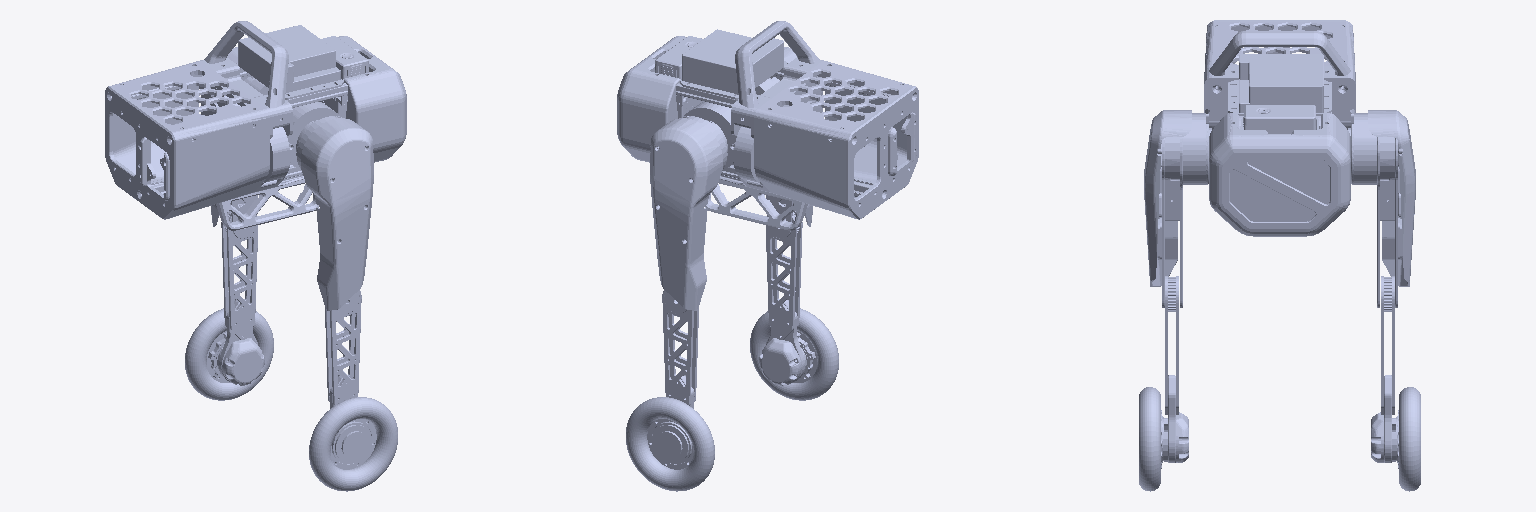
The robot description file, URDF, robot "crazydog":
<?xml version="1.0" encoding="utf-8"?>
<!-- This URDF was automatically created by SolidWorks to URDF Exporter! Originally created by [author] ([email redacted]) 
     Commit Version: 1.6.0-4-g7f85cfe  Build Version: 1.6.7995.38578
     For more information, please see http://wiki.ros.org/sw_urdf_exporter -->
<robot
  name="crazydog">
  <link name="dummy_link"/>  
  <joint name="dummy_joint" type="floating">
    <parent link="dummy_link"/>
    <child link="base_link"/>
    <origin xyz="0 0 0" rpy="0 0 0"/>
  </joint>
  <link
    name="base_link">
    <inertial>
      <origin
        xyz="-0.06214 -0.00054 0.06779"
        rpy="0 0 0" />
      <mass
        value="2.214" />
      <inertia
        ixx="0.02069164485"
        ixy="0.00023474428"
        ixz="-0.00785270783"
        iyy="0.04356034977"
        iyz="-0.00005561398"
        izz="0.03457865399" />
    </inertial>
    <visual>
      <origin
        xyz="0 0 0"
        rpy="0 0 0" />
      <geometry>
        <mesh
          filename="package://crazydog/meshes/base_link.STL" />
      </geometry>
      <material
        name="">
        <color
          rgba="0.792156862745098 0.819607843137255 0.933333333333333 1" />
      </material>
    </visual>
    <collision>
      <origin
        xyz="0 0 0"
        rpy="0 0 0" />
      <geometry>
        <mesh
          filename="package://crazydog/meshes/base_link.STL" />
      </geometry>
    </collision>
  </link>
  <link
    name="orin_Link">
      <inertial>
        <origin
          xyz="-0.01930 0.05663 0.02065"
          rpy="0 0 0" />
        <mass
          value="0.300" />
        <inertia
          ixx="0.00144869941"
          ixy="-0.00031634298"
          ixz="-0.00012276365"
          iyy="0.00055394520"
          iyz="0.00035951431"
          izz="0.00165301683" />
      </inertial>
    <visual>
      <origin
        xyz="0 0 0"
        rpy="0 0 0" />
      <geometry>
        <mesh
          filename="package://crazydog/meshes/orin_Link.STL" />
      </geometry>
      <material
        name="">
        <color
          rgba="0.792156862745098 0.819607843137255 0.933333333333333 1" />
      </material>
    </visual>
    <collision>
      <origin
        xyz="0 0 0"
        rpy="0 0 0" />
      <geometry>
        <mesh
          filename="package://crazydog/meshes/orin_Link.STL" />
      </geometry>
    </collision>
  </link>
  <joint
    name="orin"
    type="fixed">
    <origin
      xyz="0.017899999999997 -0.0521499999999896 0.138300000000021"
      rpy="0 0 0" />
    <parent
      link="base_link" />
    <child
      link="orin_Link" />
    <axis
      xyz="0 0 1" />
  </joint>
  <link
    name="bat_Link">
    <inertial>
      <origin
        xyz="0.02067 -0.06839 0.06374"
        rpy="0 0 0" />
      <mass
        value="0.672" />
      <inertia
        ixx="0.00711125557"
        ixy="-0.00095114141"
        ixz="0.00088927121"
        iyy="0.00396581723"
        iyz="-0.00296428728"
        izz="0.00393199356" />
    </inertial>
    <visual>
      <origin
        xyz="0 0 0"
        rpy="0 0 0" />
      <geometry>
        <mesh
          filename="package://crazydog/meshes/bat_Link.STL" />
      </geometry>
      <material
        name="">
        <color
          rgba="0.792156862745098 0.819607843137255 0.933333333333333 1" />
      </material>
    </visual>
    <collision>
      <origin
        xyz="0 0 0"
        rpy="0 0 0" />
      <geometry>
        <mesh
          filename="package://crazydog/meshes/bat_Link.STL" />
      </geometry>
    </collision>
  </link>
  <joint
    name="bat"
    type="fixed">
    <origin
      xyz="0.058950000003876 0.0727389463301006 0.0227476714243632"
      rpy="0 0 0" />
    <parent
      link="base_link" />
    <child
      link="bat_Link" />
    <axis
      xyz="0 0 1" />
  </joint>
  <link
    name="r_Link">
    <inertial>
      <origin
        xyz="-0.02157 -0.01000 0.00000"
        rpy="0 0 0" />
      <mass
        value="0.536" />
      <inertia
        ixx="0.00060793670"
        ixy="0.00011558529"
        ixz="0.00000883"
        iyy="0.00058746412"
        iyz="-0.00000494"
        izz="0.00063100958" />
    </inertial>
    <visual>
      <origin
        xyz="0 0 0"
        rpy="0 0 0" />
      <geometry>
        <mesh
          filename="package://crazydog/meshes/r_Link.STL" />
      </geometry>
      <material
        name="">
        <color
          rgba="0.792156862745098 0.819607843137255 0.933333333333333 1" />
      </material>
    </visual>
    <collision>
      <origin
        xyz="0 0 0"
        rpy="0 0 0" />
      <geometry>
        <mesh
          filename="package://crazydog/meshes/r_Link.STL" />
      </geometry>
    </collision>
  </link>
  <joint
    name="R_hip_fix"
    type="fixed">
    <origin
      xyz="-0.0518500000000023 -0.0449999999990881 0.0646505434665986"
      rpy="0 0 0" />
    <parent
      link="base_link" />
    <child
      link="r_Link" />
    <axis
      xyz="1 0 0" />
  </joint>
  <link
    name="rr_Link">
    <inertial>
      <origin
        xyz="0.05066 -0.00900 0.00000"
        rpy="0 0 0" />
      <mass
        value="0.573" />
      <inertia
        ixx="0.00040372551"
        ixy="-0.00026582134"
        ixz="0.00004388"
        iyy="0.00210825359"
        iyz="-0.00000196"
        izz="0.00192077322" />
    </inertial>
    <visual>
      <origin
        xyz="0 0 0"
        rpy="0 0 0" />
      <geometry>
        <mesh
          filename="package://crazydog/meshes/rr_Link.STL" />
      </geometry>
      <material
        name="">
        <color
          rgba="0.792156862745098 0.819607843137255 0.933333333333333 1" />
      </material>
    </visual>
    <collision>
      <origin
        xyz="0 0 0"
        rpy="0 0 0" />
      <geometry>
        <mesh
          filename="package://crazydog/meshes/rr_Link.STL" />
      </geometry>
    </collision>
  </link>
  <joint
    name="R_base2hip"
    type="fixed">
    <origin
      xyz="0 0 0"
      rpy="0 0 0" />
    <parent
      link="r_Link" />
    <child
      link="rr_Link" />
    <axis
      xyz="1 0 0" />
  </joint>
  <link
    name="rrr_Link">
    <inertial>
      <origin
        xyz="0.00000 -0.04237 0.00000"
        rpy="0 0 0" />
      <mass
        value="0.614" />
      <inertia
        ixx="0.00153715736"
        ixy="0.00001279"
        ixz="-0.00520284"
        iyy="0.00066390170"
        iyz="0.00003363"
        izz="0.00155997855" />
    </inertial>
    <visual>
      <origin
        xyz="0 0 0"
        rpy="0 0 0" />
      <geometry>
        <mesh
          filename="package://crazydog/meshes/rrr_Link.STL" />
      </geometry>
      <material
        name="">
        <color
          rgba="0.792156862745098 0.819607843137255 0.933333333333333 1" />
      </material>
    </visual>
    <collision>
      <origin
        xyz="0 0 0"
        rpy="0 0 0" />
      <geometry>
        <mesh
          filename="package://crazydog/meshes/rrr_Link.STL" />
      </geometry>
    </collision>
  </link>
  <joint
    name="R_hip2thigh"
    type="revolute">
    <origin
      xyz="0.0532500000000038 -0.0234965472817495 0"
      rpy="0 0 0" />
    <parent
      link="rr_Link" />
    <child
      link="rrr_Link" />
    <axis
      xyz="0 0.999999999994352 0" />
    <limit
      lower="0.0"
      upper="1.57"
      effort="23.7"
      velocity="30.0" />
  </joint>
  <link
    name="ru_Link">
    <inertial>
      <origin
        xyz="-0.00522 -0.04538 -0.06493"
        rpy="0 0 0" />
      <mass
        value="0.509" />
      <inertia
        ixx="0.00610249132"
        ixy="0.00012368056"
        ixz="0.00017397906"
        iyy="0.00522184002"
        iyz="0.00157883075"
        izz="0.00148210677" />
    </inertial>
    <visual>
      <origin
        xyz="0 0 0"
        rpy="0 0 0" />
      <geometry>
        <mesh
          filename="package://crazydog/meshes/ru_Link.STL" />
      </geometry>
      <material
        name="">
        <color
          rgba="0.792156862745098 0.819607843137255 0.933333333333333 1" />
      </material>
    </visual>
    <collision>
      <origin
        xyz="0 0 0"
        rpy="0 0 0" />
      <geometry>
        <mesh
          filename="package://crazydog/meshes/ru_Link.STL" />
      </geometry>
    </collision>
  </link>
  <joint
    name="R_thigh_fix"
    type="fixed">
    <origin
      xyz="0 -0.0399999999997176 0"
      rpy="0 0 0" />
    <parent
      link="rrr_Link" />
    <child
      link="ru_Link" />
    <axis
      xyz="0 0.999999999994352 0" />
  </joint>
  <link
    name="rd_Link">
    <inertial>
      <origin
        xyz="-0.00002 -0.03974 -0.15275"
        rpy="0 0 0" />
      <mass
        value="0.555" />
      <inertia
        ixx="0.01764701135"
        ixy="0.00045536"
        ixz="0.00024260"
        iyy="0.01681223570"
        iyz="0.00360095700"
        izz="0.00110212502" />
    </inertial>
    <visual>
      <origin
        xyz="0 0 0"
        rpy="0 0 0" />
      <geometry>
        <mesh
          filename="package://crazydog/meshes/rd_Link.STL" />
      </geometry>
      <material
        name="">
        <color
          rgba="0.792156862745098 0.819607843137255 0.933333333333333 1" />
      </material>
    </visual>
    <collision>
      <origin
        xyz="0 0 0"
        rpy="0 0 0" />
      <geometry>
        <mesh
          filename="package://crazydog/meshes/rd_Link.STL" />
      </geometry>
    </collision>
  </link>
  <joint
    name="R_thigh2calf"
    type="revolute">
    <origin
      xyz="0 -0.00370423901864644 -0.214999987551507"
      rpy="0 0 0" />
    <parent
      link="ru_Link" />
    <child
      link="rd_Link" />
    <axis
      xyz="0 0.999999999994352 0" />
    <limit
      lower="-2.61"
      upper="0.0"
      effort="23.7"
      velocity="30.0" />
  </joint>
  <link
    name="rw_Link">
    <inertial>
      <origin
        xyz="0.00000 -0.02520 0.00000"
        rpy="0 0 0" />
      <mass
        value="0.0" />
      <inertia
        ixx="0.00063615797"
        ixy="0.00000000"
        ixz="-0.00000070"
        iyy="0.00088385875"
        iyz="0.00000084"
        izz="0.00063615445" />
    </inertial>
    <visual>
      <origin
        xyz="0 0 0"
        rpy="0 0 0" />
      <geometry>
        <mesh
          filename="package://crazydog/meshes/rw_Link.STL" />
      </geometry>
      <material
        name="">
        <color
          rgba="0.792156862745098 0.819607843137255 0.933333333333333 1" />
      </material>
    </visual>
    <collision>
      <origin
        xyz="0 0 0"
        rpy="0 0 0" />
      <geometry>
        <mesh
          filename="package://crazydog/meshes/rw_Link.STL" />
      </geometry>
    </collision>
  </link>
  <joint
    name="R_calf2wheel"
    type="continuous">
    <origin
      xyz="0 -0.0372314027426527 -0.214999874868891"
      rpy="0 0 0" />
    <parent
      link="rd_Link" />
    <child
      link="rw_Link" />
    <axis
      xyz="0 0.999999999994352 0" />
  </joint>
  <link
    name="l_Link">
    <inertial>
      <origin
        xyz="-0.02157 -0.01000 0.00000"
        rpy="0 0 0" />
      <mass
        value="0.536" />
      <inertia
        ixx="0.00060796606"
        ixy="0.00011561532"
        ixz="0.00000705"
        iyy="0.00058746127"
        iyz="0.00001334"
        izz="0.00063104152" />
    </inertial>
    <visual>
      <origin
        xyz="0 0 0"
        rpy="0 0 0" />
      <geometry>
        <mesh
          filename="package://crazydog/meshes/l_Link.STL" />
      </geometry>
      <material
        name="">
        <color
          rgba="0.792156862745098 0.819607843137255 0.933333333333333 1" />
      </material>
    </visual>
    <collision>
      <origin
        xyz="0 0 0"
        rpy="0 0 0" />
      <geometry>
        <mesh
          filename="package://crazydog/meshes/l_Link.STL" />
      </geometry>
    </collision>
  </link>
  <joint
    name="L_hip_fix"
    type="fixed">
    <origin
      xyz="-0.0518500000000022 0.0650000000000014 0.0646505434669769"
      rpy="0 0 0" />
    <parent
      link="base_link" />
    <child
      link="l_Link" />
    <axis
      xyz="1 0 0" />
  </joint>
  <link
    name="ll_Link">
    <inertial>
      <origin
        xyz="0.05067 -0.01100 0.00000"
        rpy="0 0 0" />
      <mass
        value="0.573" />
      <inertia
        ixx="0.00042667077"
        ixy="-0.00031479758"
        ixz="-0.00001596"
        iyy="0.00210835291"
        iyz="0.00000221"
        izz="0.00194374478" />
    </inertial>
    <visual>
      <origin
        xyz="0 0 0"
        rpy="0 0 0" />
      <geometry>
        <mesh
          filename="package://crazydog/meshes/ll_Link.STL" />
      </geometry>
      <material
        name="">
        <color
          rgba="0.792156862745098 0.819607843137255 0.933333333333333 1" />
      </material>
    </visual>
    <collision>
      <origin
        xyz="0 0 0"
        rpy="0 0 0" />
      <geometry>
        <mesh
          filename="package://crazydog/meshes/ll_Link.STL" />
      </geometry>
    </collision>
  </link>
  <joint
    name="L_base2hip"
    type="fixed">
    <origin
      xyz="0 0 0"
      rpy="0 0 0" />
    <parent
      link="l_Link" />
    <child
      link="ll_Link" />
    <axis
      xyz="1 0 0" />
  </joint>
  <link
    name="lll_Link">
    <inertial>
      <origin
        xyz="0.00000 0.04237 0.00000"
        rpy="0 0 0" />
      <mass
        value="0.614" />
      <inertia
        ixx="0.00153719555"
        ixy="-0.00000836"
        ixz="-0.000520423"
        iyy="0.00066391046"
        iyz="-0.00003396"
        izz="0.00155996700" />
    </inertial>
    <visual>
      <origin
        xyz="0 0 0"
        rpy="0 0 0" />
      <geometry>
        <mesh
          filename="package://crazydog/meshes/lll_Link.STL" />
      </geometry>
      <material
        name="">
        <color
          rgba="0.792156862745098 0.819607843137255 0.933333333333333 1" />
      </material>
    </visual>
    <collision>
      <origin
        xyz="0 0 0"
        rpy="0 0 0" />
      <geometry>
        <mesh
          filename="package://crazydog/meshes/lll_Link.STL" />
      </geometry>
    </collision>
  </link>
  <joint
    name="L_hip2thigh"
    type="revolute">
    <origin
      xyz="0.0532500000000048 0.00349654728109326 0"
      rpy="0 0 0" />
    <parent
      link="ll_Link" />
    <child
      link="lll_Link" />
    <axis
      xyz="0 1 0" />
    <limit
      lower="0.0"
      upper="1.57"
      effort="23.7"
      velocity="30.0" />
  </joint>
  <link
    name="lu_Link">
    <inertial>
      <origin
        xyz="-0.00522 0.02538 -0.06493"
        rpy="0 0 0" />
      <mass
        value="0.509" />
      <inertia
        ixx="0.00538198328"
        ixy="-0.00007050637"
        ixz="0.00017400430"
        iyy="0.00522186135"
        iyz="-0.00091779265"
        izz="0.00076175038" />
    </inertial>
    <visual>
      <origin
        xyz="0 0 0"
        rpy="0 0 0" />
      <geometry>
        <mesh
          filename="package://crazydog/meshes/lu_Link.STL" />
      </geometry>
      <material
        name="">
        <color
          rgba="0.792156862745098 0.819607843137255 0.933333333333333 1" />
      </material>
    </visual>
    <collision>
      <origin
        xyz="0 0 0"
        rpy="0 0 0" />
      <geometry>
        <mesh
          filename="package://crazydog/meshes/lu_Link.STL" />
      </geometry>
    </collision>
  </link>
  <joint
    name="L_thigh_fix"
    type="fixed">
    <origin
      xyz="0 0.06 0"
      rpy="0 0 0" />
    <parent
      link="lll_Link" />
    <child
      link="lu_Link" />
    <axis
      xyz="0 1 0" />
  </joint>
  <link
    name="ld_Link">
    <inertial>
      <origin
        xyz="-0.00002 0.01974 -0.15275"
        rpy="0 0 0" />
      <mass
        value="0.555" />
      <inertia
        ixx="0.01698659436"
        ixy="-0.00016940"
        ixz="0.00011999"
        iyy="0.01681207565"
        iyz="-0.00190536647"
        izz="0.00044182490" />
    </inertial>
    <visual>
      <origin
        xyz="0 0 0"
        rpy="0 0 0" />
      <geometry>
        <mesh
          filename="package://crazydog/meshes/ld_Link.STL" />
      </geometry>
      <material
        name="">
        <color
          rgba="0.792156862745098 0.819607843137255 0.933333333333333 1" />
      </material>
    </visual>
    <collision>
      <origin
        xyz="0 0 0"
        rpy="0 0 0" />
      <geometry>
        <mesh
          filename="package://crazydog/meshes/ld_Link.STL" />
      </geometry>
    </collision>
  </link>
  <joint
    name="L_thigh2calf"
    type="revolute">
    <origin
      xyz="0 0.00370351641772967 -0.214999999999999"
      rpy="0 0 0" />
    <parent
      link="lu_Link" />
    <child
      link="ld_Link" />
    <axis
      xyz="0 1 0" />
    <limit
      lower="-2.61"
      upper="0.0"
      effort="23.7"
      velocity="30.0" />
  </joint>
  <link
    name="lw_Link">
    <inertial>
      <origin
        xyz="0.00 0.00520 0.00"
        rpy="0 0 0" />
      <mass
        value="0.0" />
      <inertia
        ixx="0.00046594348"
        ixy="0.00000000"
        ixz="0.00000031"
        iyy="0.00088385419"
        iyz="0.00000005"
        izz="0.00046593588" />
    </inertial>
    <visual>
      <origin
        xyz="0 0 0"
        rpy="0 0 0" />
      <geometry>
        <mesh
          filename="package://crazydog/meshes/lw_Link.STL" />
      </geometry>
      <material
        name="">
        <color
          rgba="0.792156862745098 0.819607843137255 0.933333333333333 1" />
      </material>
    </visual>
    <collision>
      <origin
        xyz="0 0 0"
        rpy="0 0 0" />
      <geometry>
        <mesh
          filename="package://crazydog/meshes/lw_Link.STL" />
      </geometry>
    </collision>
  </link>
  <joint
    name="L_calf2wheel"
    type="continuous">
    <origin
      xyz="0 0.0372306801421323 -0.215000000000002"
      rpy="0 0 0" />
    <parent
      link="ld_Link" />
    <child
      link="lw_Link" />
    <axis
      xyz="0 1 0" />
  </joint>
  <link
    name="dock_Link">
    <inertial>
      <origin
        xyz="-0.05710 0.01966 -0.04198"
        rpy="0 0 0" />
      <mass
        value="0.900" />
      <inertia
        ixx="0.00426074253"
        ixy="-0.00125466743"
        ixz="0.00232332840"
        iyy="0.00602495727"
        iyz="-0.00078374613"
        izz="0.00590970314" />
    </inertial>
    <visual>
      <origin
        xyz="0 0 0"
        rpy="0 0 0" />
      <geometry>
        <mesh
          filename="package://crazydog/meshes/dock_Link.STL" />
      </geometry>
      <material
        name="">
        <color
          rgba="0.792156862745098 0.819607843137255 0.933333333333333 1" />
      </material>
    </visual>
    <collision>
      <origin
        xyz="0 0 0"
        rpy="0 0 0" />
      <geometry>
        <mesh
          filename="package://crazydog/meshes/dock_Link.STL" />
      </geometry>
    </collision>
  </link>
  <joint
    name="dock"
    type="fixed">
    <origin
      xyz="-0.12333718930912 -0.0399999999999873 0.11565"
      rpy="0 0 0" />
    <parent
      link="base_link" />
    <child
      link="dock_Link" />
    <axis
      xyz="1 0 0" />
  </joint>
</robot>

--- Render facts (derived) ---
The picture shows the robot from 3 angles, left to right: view 1: azimuth 30°, elevation 25°; view 2: azimuth 150°, elevation 25°; view 3: azimuth 270°, elevation 25°; orthographic projection.
Robot: crazydog — 17 links, 16 joints (4 revolute, 2 continuous, 9 fixed, 1 floating); root link dummy_link; default pose: every joint at zero.
Links seen in each view (by area): view 1: base_link, ru_Link, ld_Link, rw_Link, orin_Link, rd_Link, lw_Link, bat_Link, rr_Link, r_Link, lu_Link; view 2: base_link, lu_Link, rd_Link, lw_Link, orin_Link, ld_Link, rw_Link, bat_Link, ll_Link, l_Link, ru_Link; view 3: base_link, lu_Link, ru_Link, orin_Link, rd_Link, ld_Link, rw_Link, lw_Link, bat_Link, rrr_Link, lll_Link.
Boxes of the visible links, x1,y1,x2,y2 form: base_link: (105, 21, 406, 230); ru_Link: (301, 118, 373, 313); ld_Link: (208, 204, 264, 385); rw_Link: (309, 397, 397, 491); orin_Link: (237, 25, 343, 99); rd_Link: (325, 291, 373, 464); lw_Link: (185, 308, 273, 400); bat_Link: (320, 36, 368, 118); rr_Link: (287, 102, 339, 169); r_Link: (264, 127, 289, 182); lu_Link: (201, 47, 257, 238); base_link: (617, 21, 918, 230); lu_Link: (650, 118, 722, 313); rd_Link: (759, 204, 815, 385); lw_Link: (626, 397, 714, 491); orin_Link: (680, 29, 786, 99); ld_Link: (650, 291, 698, 464); rw_Link: (750, 308, 838, 400); bat_Link: (655, 36, 703, 118); ll_Link: (684, 102, 736, 169); l_Link: (734, 127, 759, 182); ru_Link: (766, 47, 822, 238); base_link: (1204, 20, 1355, 236); lu_Link: (1368, 110, 1415, 307); ru_Link: (1144, 110, 1191, 307); orin_Link: (1228, 54, 1331, 115); rd_Link: (1161, 276, 1188, 468); ld_Link: (1371, 276, 1398, 468); rw_Link: (1139, 387, 1160, 491); lw_Link: (1399, 387, 1420, 491); bat_Link: (1239, 105, 1320, 134); rrr_Link: (1183, 113, 1219, 184); lll_Link: (1340, 113, 1376, 184).
Size in the robot's own frame: 0.3968 by 0.3803 by 0.6498 metres.
Meshes: 16 distinct files referenced, 15 mesh visuals loaded (15 binary STL); not drawn: 1 (reference not matched to a file when rendering).
